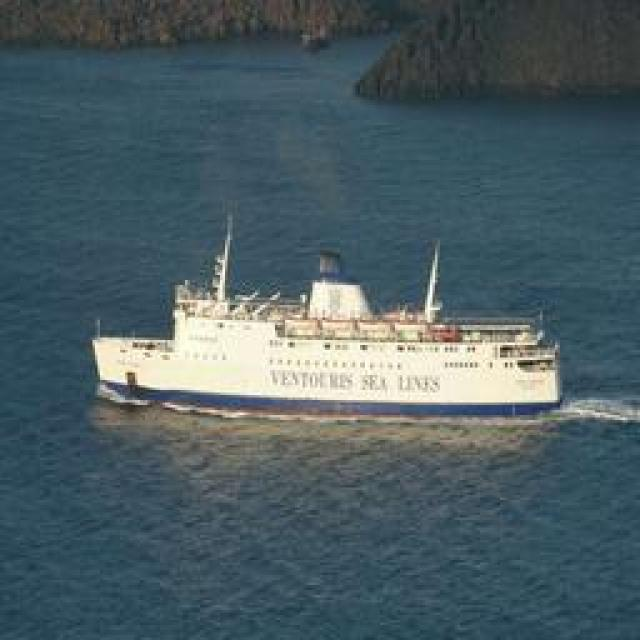ship: (95, 222, 563, 422)
